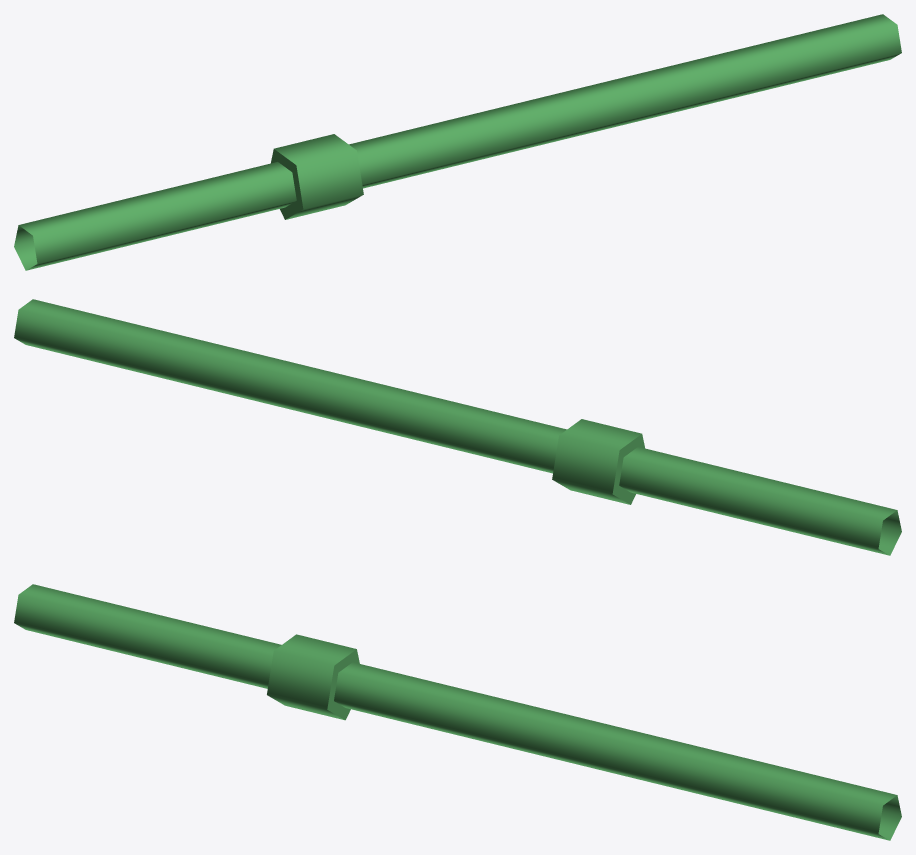
The model's file is SPipeB_1.fbx.
3 renders of one model, top to bottom at view 1: azimuth 30°, elevation 25°; view 2: azimuth 150°, elevation 25°; view 3: azimuth 330°, elevation 25°, orthographic.
Parts seen in each view (by area): view 1: SPipeB_1; view 2: SPipeB_1; view 3: SPipeB_1.
Part boxes in pixels (box(x1,y1,x2,y2)): SPipeB_1: box(14, 14, 901, 270); SPipeB_1: box(14, 299, 901, 555); SPipeB_1: box(14, 584, 901, 840).
Size of the model in its own units: 220 by 15.34 by 16.13.
